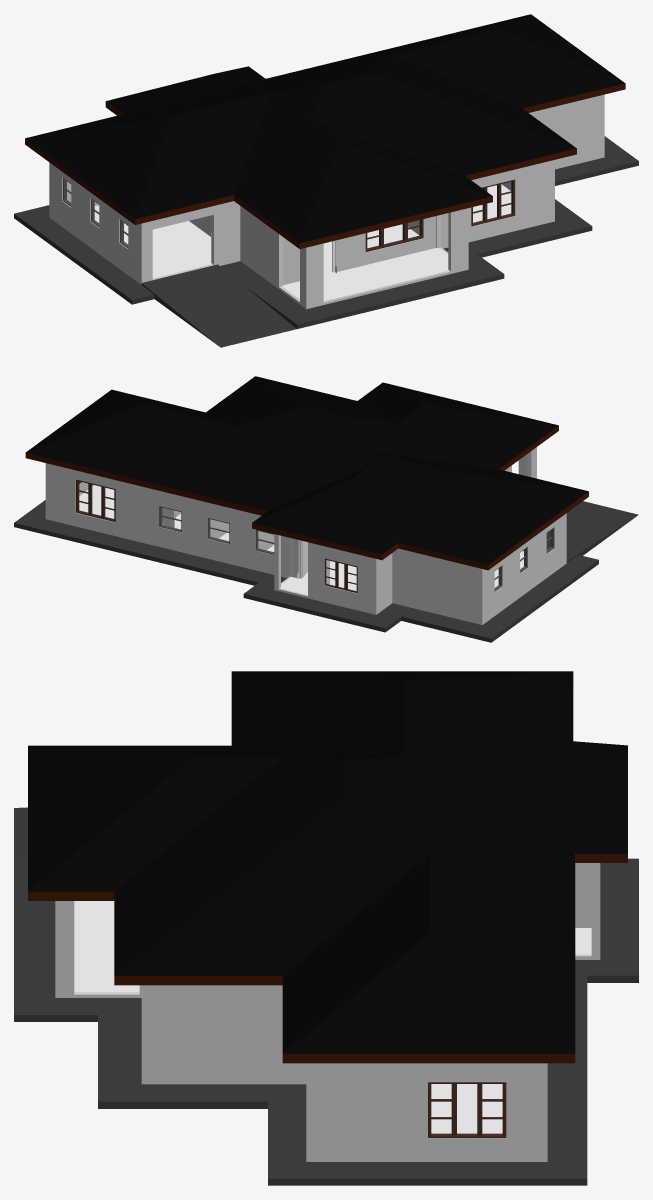
The picture shows the model from 3 angles, top to bottom: view 1: azimuth 30°, elevation 25°; view 2: azimuth 150°, elevation 25°; view 3: azimuth 270°, elevation 25°; orthographic projection. The views are drawn at different scales.
Parts seen in each view (by area): view 1: roof, Plane, base.001, floor, base.002, roof.001, base, Windows.012, Windows; view 2: roof, Plane, base.001, roof.001, base.002, floor, base, Windows.001, Cube.003; view 3: roof, Plane, base.001, floor, roof.001, base, Windows.013, base.002.
Part boxes in pixels (x1,y1,x2,y2): roof: (25, 14, 625, 242); Plane: (49, 94, 604, 306); base.001: (14, 136, 638, 328); floor: (94, 184, 511, 301); base.002: (141, 264, 296, 347); roof.001: (25, 83, 625, 248); base: (49, 155, 604, 309); Windows.012: (471, 179, 514, 226); Windows: (365, 219, 423, 251); roof: (26, 376, 588, 564); Plane: (45, 447, 566, 622); base.001: (14, 500, 598, 642); roof.001: (25, 425, 588, 570); base.002: (523, 501, 638, 562); floor: (79, 485, 523, 594); base: (45, 517, 566, 624); Windows.001: (76, 479, 115, 522); Cube.003: (324, 558, 357, 593); roof: (28, 671, 627, 1053); Plane: (55, 863, 600, 1158); base.001: (14, 858, 638, 1185); floor: (74, 901, 591, 1133); roof.001: (28, 694, 627, 1063); base: (55, 954, 600, 1161); Windows.013: (428, 1082, 506, 1138); base.002: (14, 807, 27, 858).
Size of the model in its own units: 23.82 by 5.83 by 15.94.
